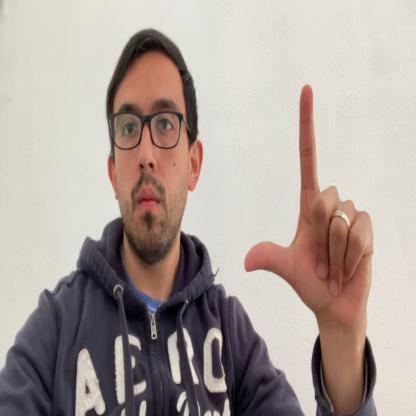L: (244, 84, 374, 327)
